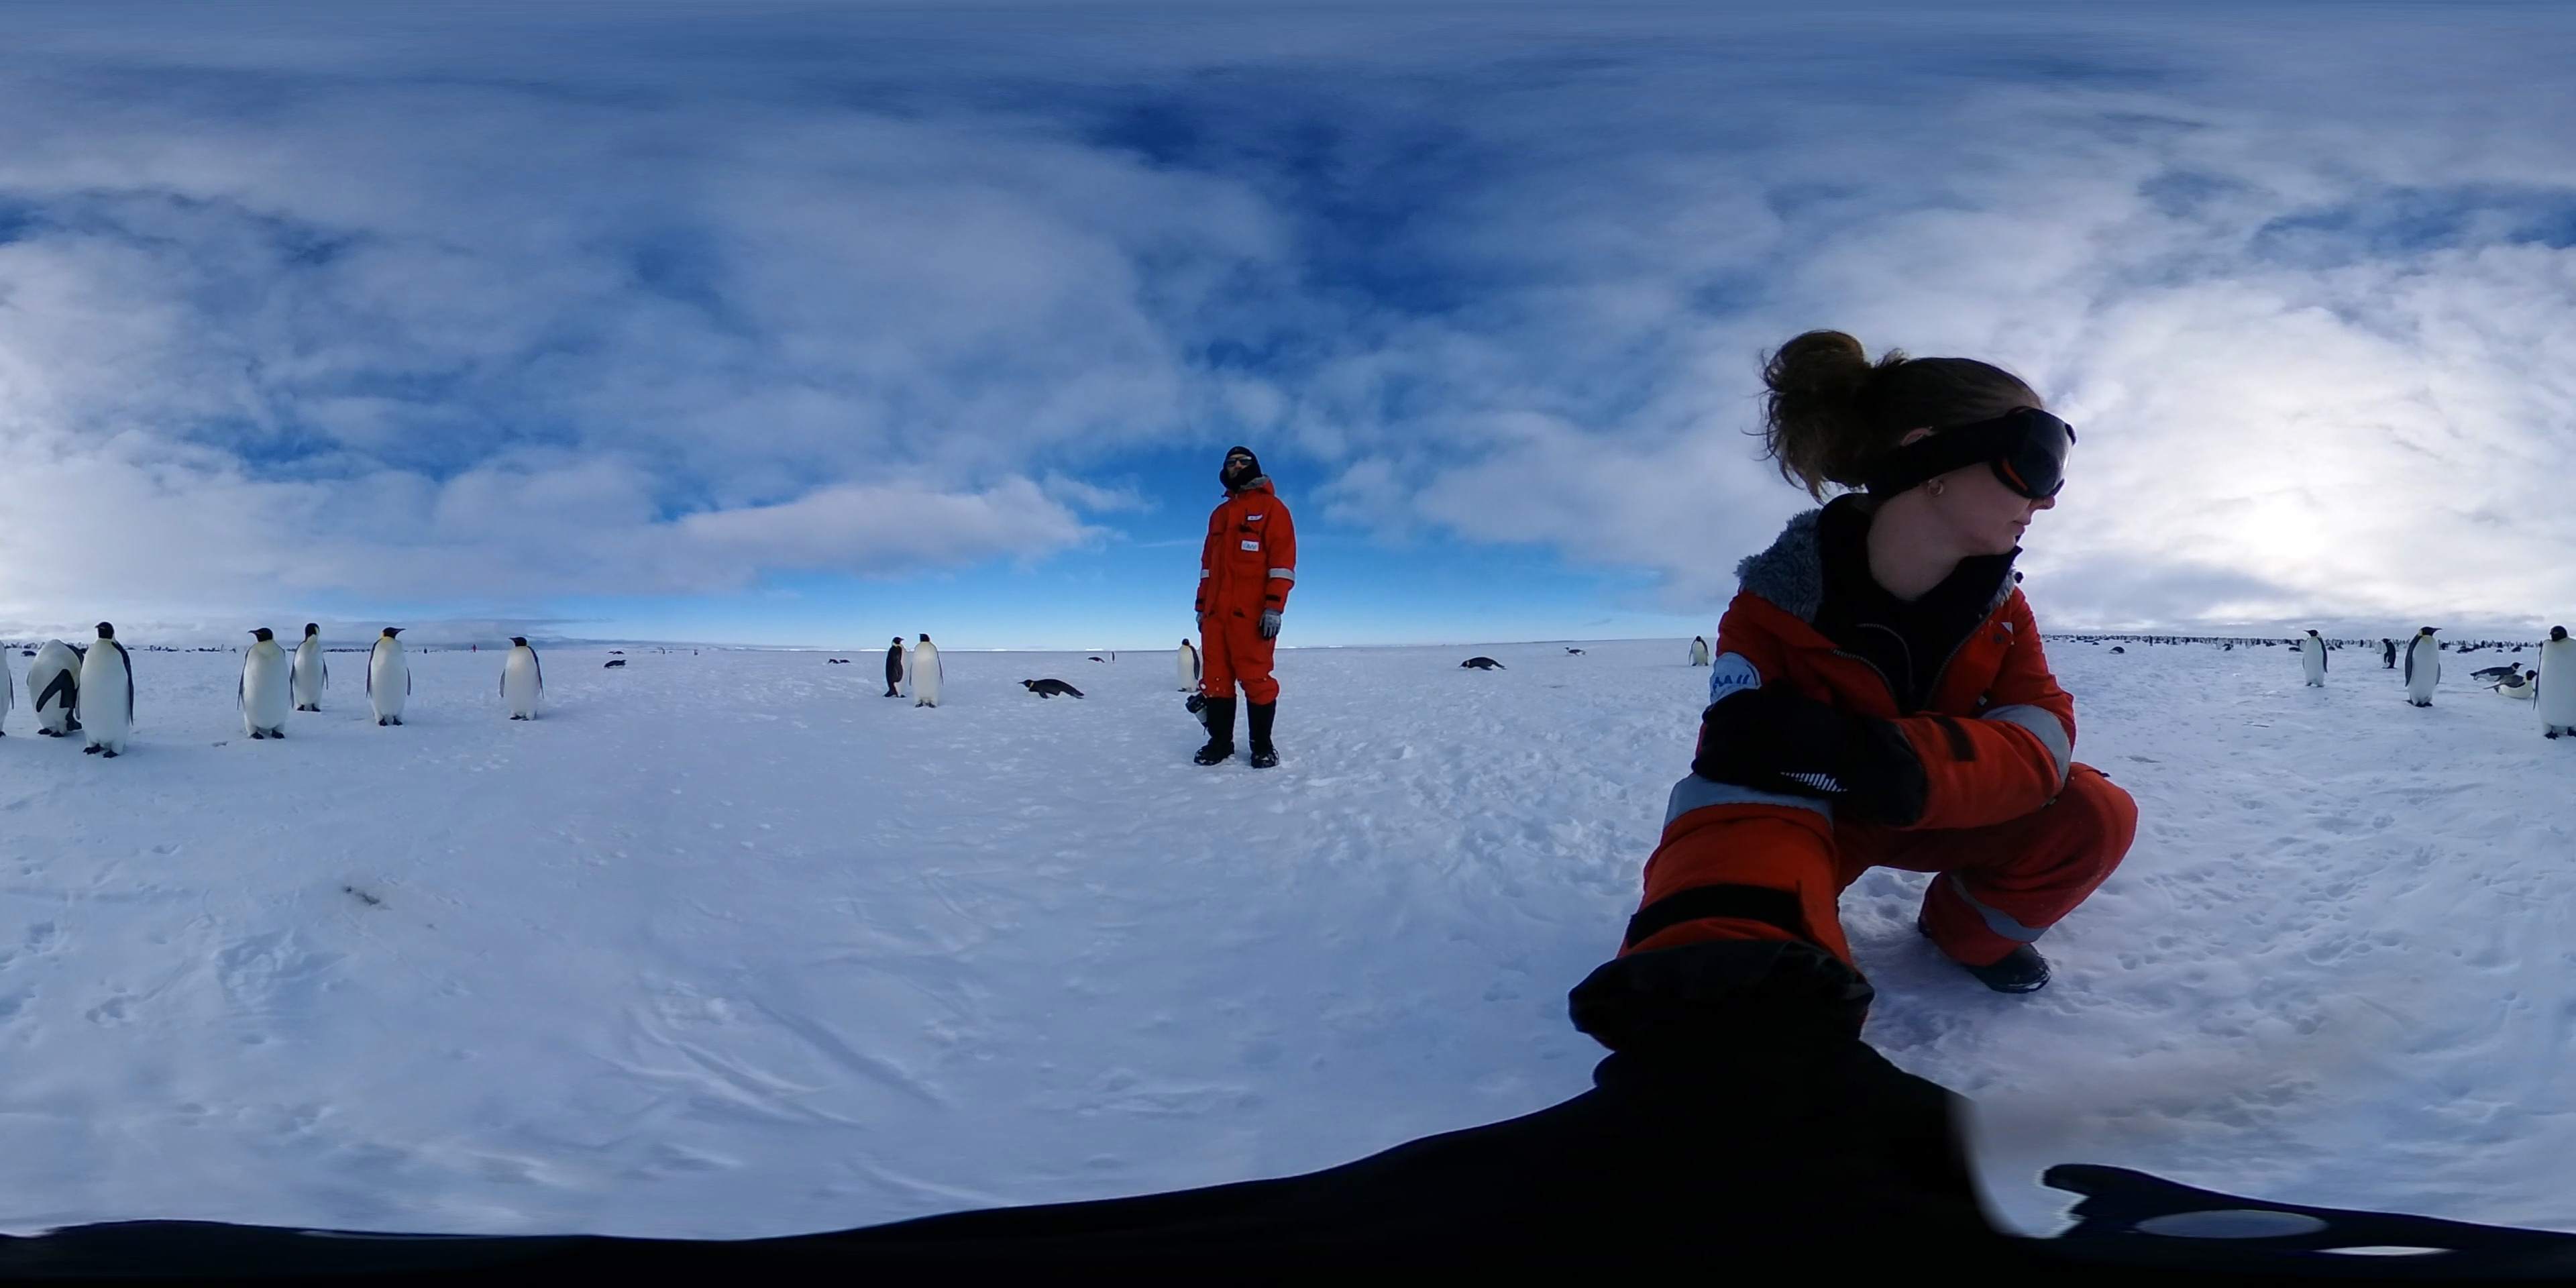adult_standing_penguin: (76, 619, 136, 764), (235, 624, 291, 743), (26, 639, 84, 739), (2533, 624, 2576, 746), (361, 623, 409, 731), (496, 632, 549, 724), (286, 619, 333, 715), (2403, 624, 2443, 710), (904, 629, 945, 710), (879, 636, 908, 701), (2300, 629, 2331, 690), (1175, 637, 1203, 693), (2376, 636, 2402, 674), (1687, 634, 1709, 669)
adult_toboggan_penguin: (2468, 657, 2525, 687), (1015, 678, 1088, 700), (2487, 667, 2540, 695), (1456, 655, 1510, 670), (600, 659, 632, 672), (2104, 644, 2126, 659), (1564, 646, 1585, 657)
researcher: (1646, 319, 2150, 1000), (1193, 442, 1295, 772)
